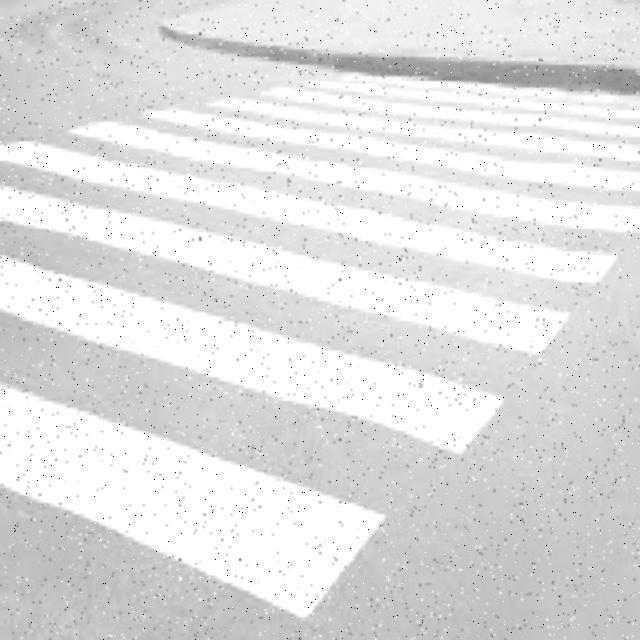Pedestrian crosswalk: (2, 69, 640, 606)
